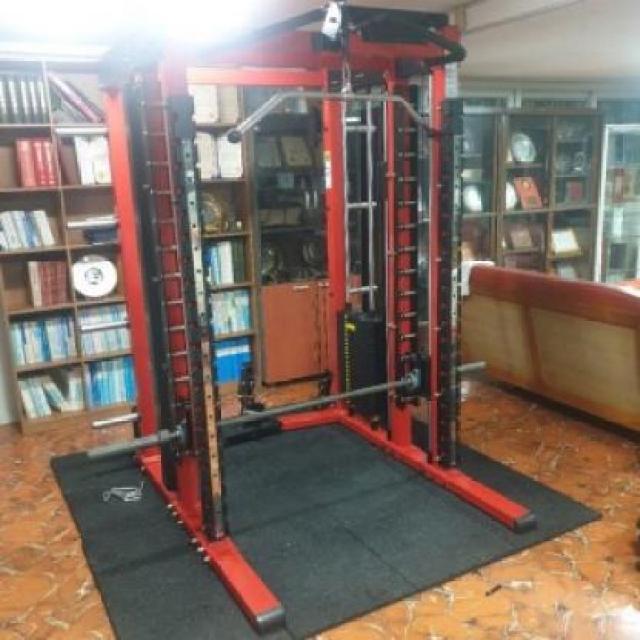smith machine: (121, 6, 492, 634)
